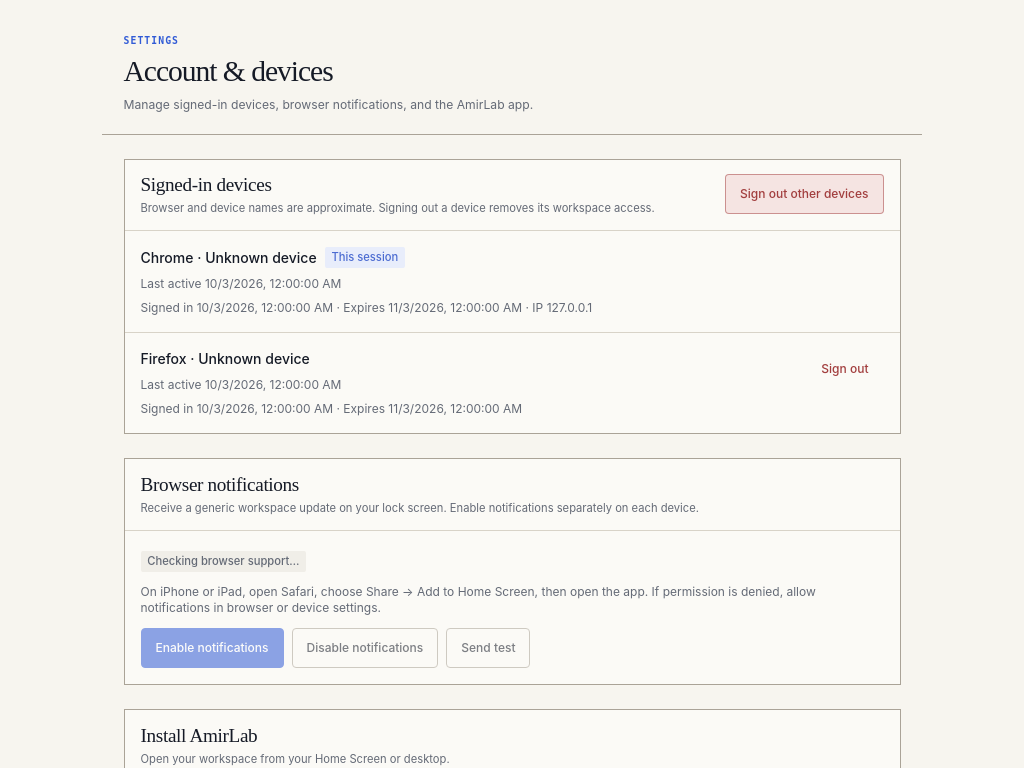
Test: signs out all other sessions while keeping this session
This screenshot has width=1024, height=768.
expect the text "This session" is shown: met, box [325, 248, 405, 268]
Click the button "Sign out other devices": [804, 194] box [725, 174, 884, 214]
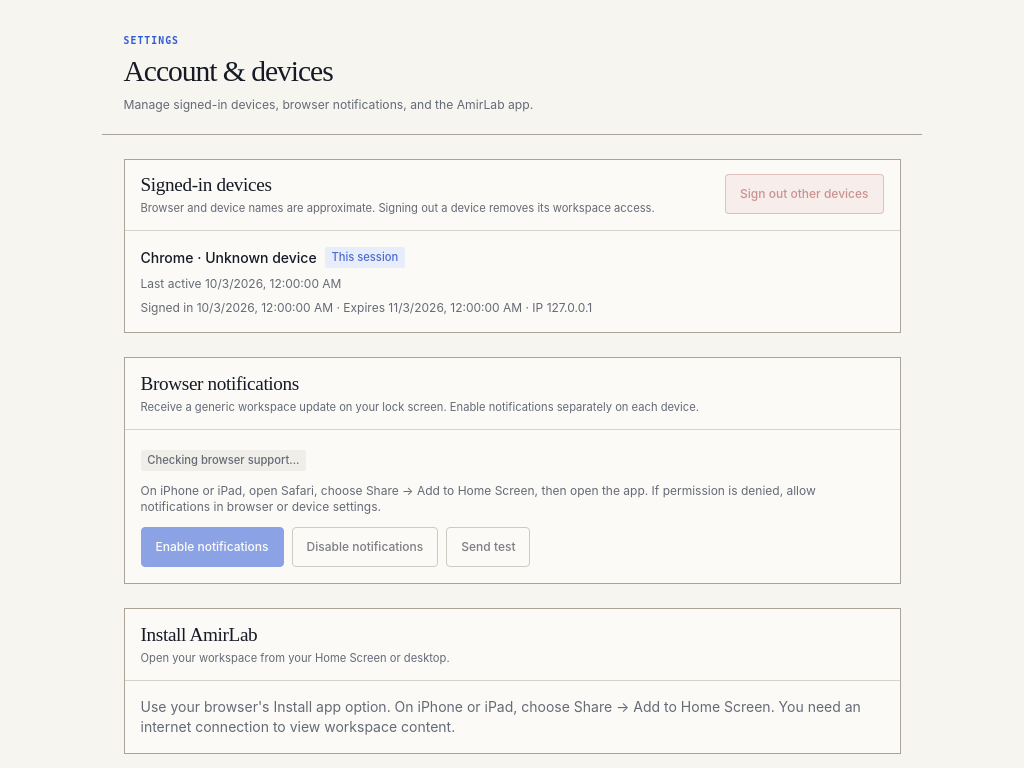
expect the text "This session" is shown: met, box [325, 248, 405, 268]
expect the heading "Firefox · Unknown device" is gone: met
